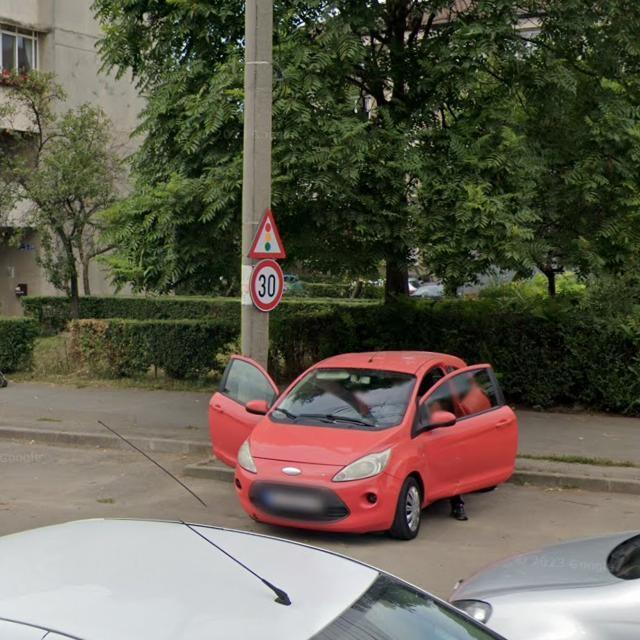forb_speed_over_30: (250, 260, 284, 311)
